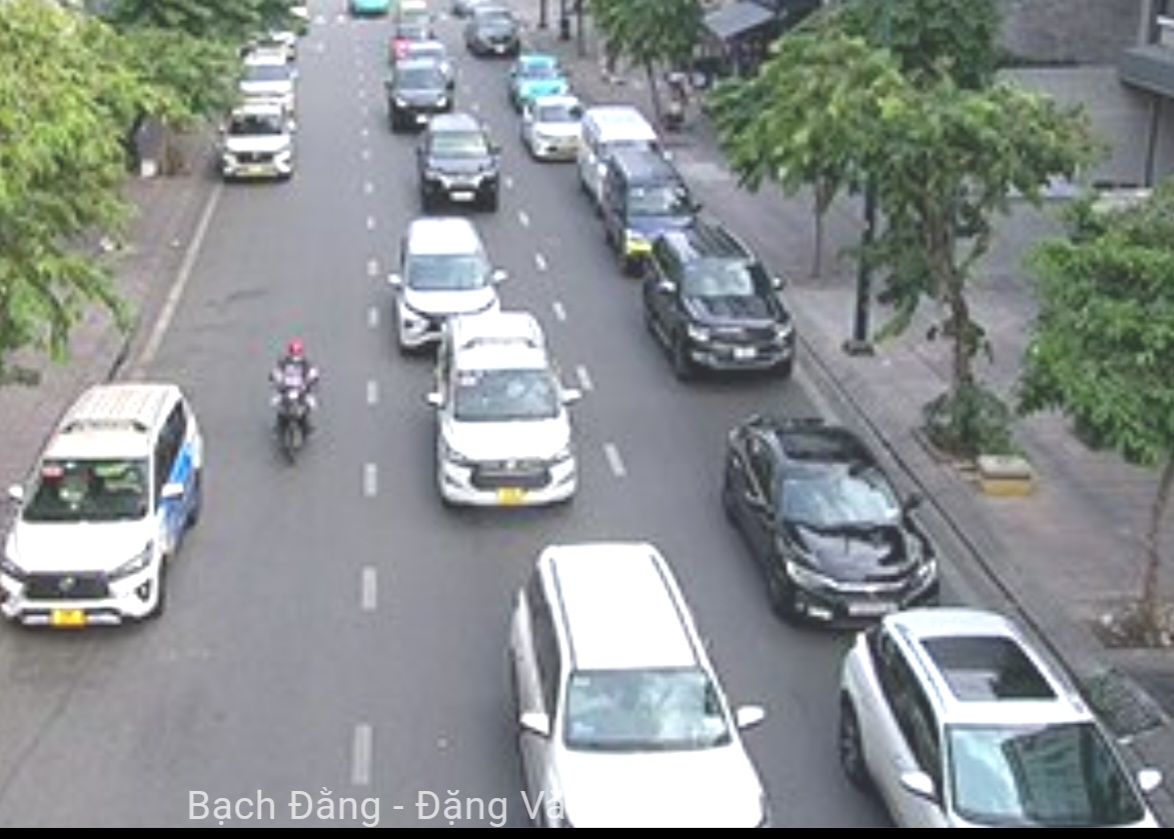car: (494, 541, 772, 836), (847, 617, 1161, 839), (5, 380, 197, 636), (722, 417, 942, 610), (439, 322, 579, 513), (647, 231, 794, 383), (397, 220, 498, 323), (609, 156, 694, 268), (425, 115, 500, 215), (221, 108, 294, 178), (389, 62, 454, 132), (523, 100, 592, 162), (512, 55, 573, 107), (236, 55, 295, 101), (470, 8, 520, 55)
